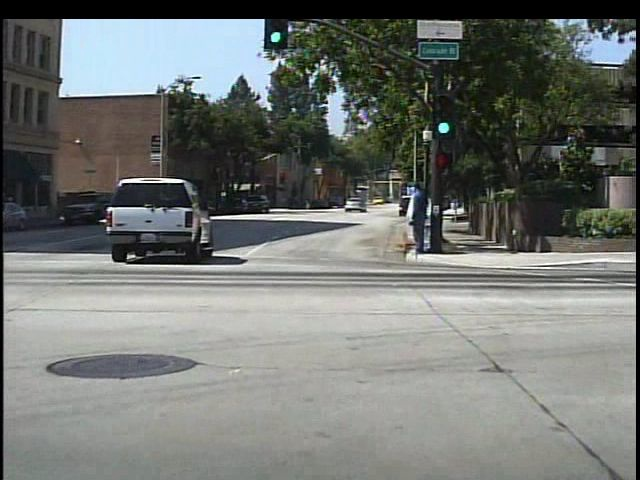person: (410, 182, 432, 256), (405, 187, 426, 258), (301, 195, 314, 210)
